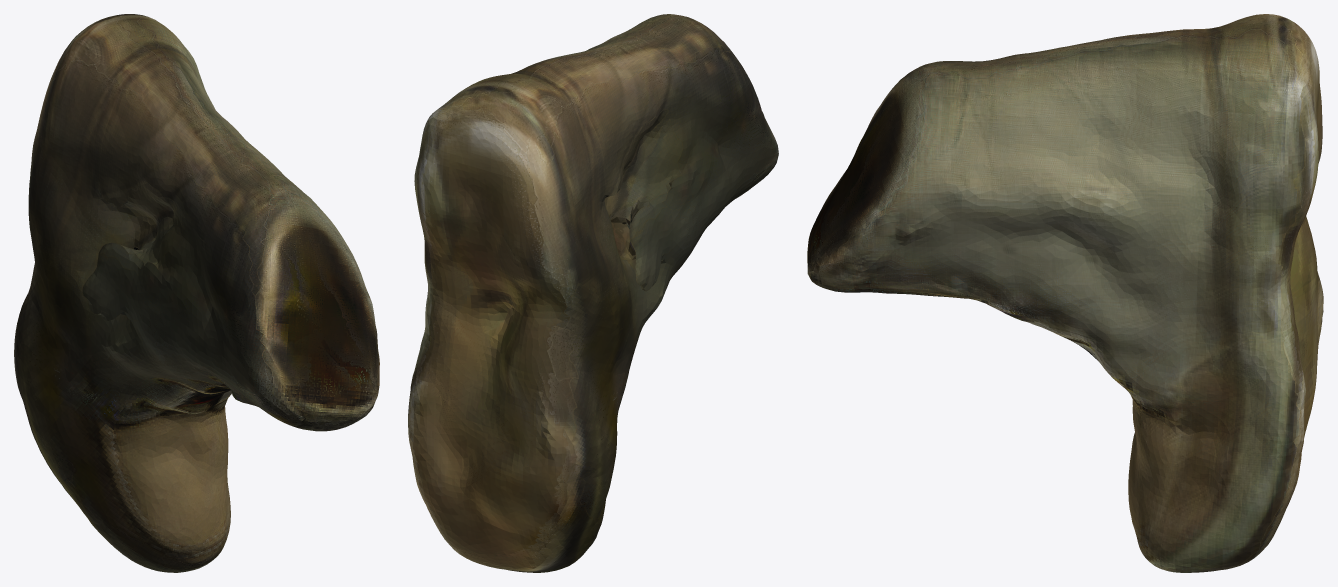
The model's file is shoe1.glb.
3 renders of one model, left to right at view 1: azimuth 30°, elevation 25°; view 2: azimuth 150°, elevation 25°; view 3: azimuth 270°, elevation 25°, orthographic. The views are drawn at different scales.
Parts seen in each view (by area): view 1: world; view 2: world; view 3: world.
Boxes of the visible parts, x1,y1,x2,y2 form: world: (14, 14, 379, 572); world: (408, 14, 778, 572); world: (807, 14, 1323, 572).
Size of the model in its own units: 0.3714 by 1 by 0.8722.
Materials: 1 (1 with a texture image).
